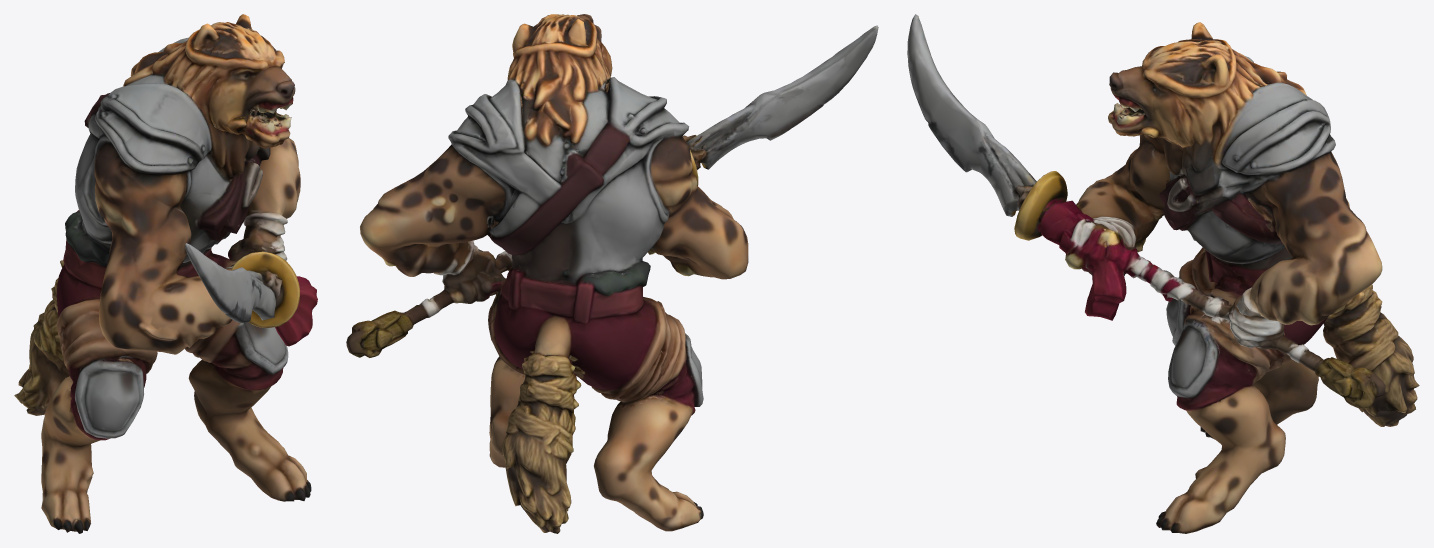
File: Ichelesi (small).glb
3 renders of one model, left to right at view 1: azimuth 30°, elevation 25°; view 2: azimuth 150°, elevation 25°; view 3: azimuth 270°, elevation 25°, orthographic. The views are drawn at different scales.
Visible parts, largest first — view 1: Mesh1.0; view 2: Mesh1.0; view 3: Mesh1.0.
Part boxes in pixels (x1,y1,x2,y2): Mesh1.0: (14,14,317,533); Mesh1.0: (346,14,878,533); Mesh1.0: (907,14,1419,533).
Size of the model in its own units: 1.39 by 2 by 1.97.
1 material, 1 textured.
